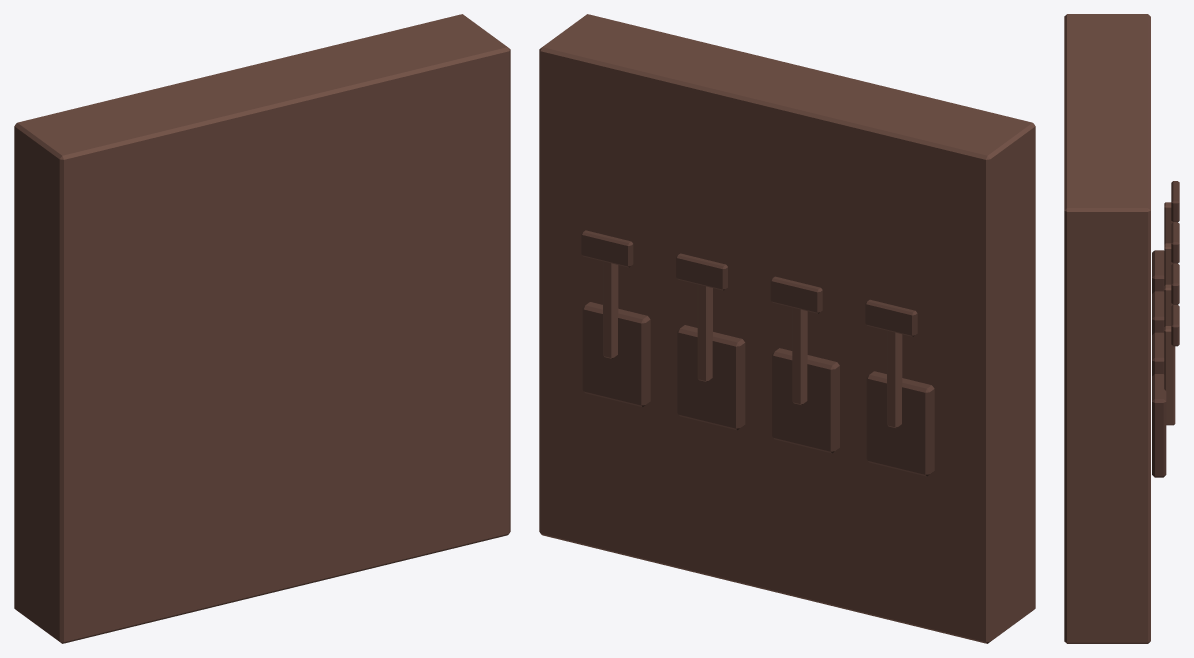
Rendered from leviers_perimetre.glb.
3 renders of one model, left to right at view 1: azimuth 30°, elevation 25°; view 2: azimuth 150°, elevation 25°; view 3: azimuth 270°, elevation 25°, orthographic. The views are drawn at different scales.
Visible parts, largest first — view 1: leviers_perimetre; view 2: leviers_perimetre; view 3: leviers_perimetre.
Part boxes in pixels (x1=…): leviers_perimetre: x1=14, y1=14, x2=510, y2=643; leviers_perimetre: x1=539, y1=14, x2=1035, y2=643; leviers_perimetre: x1=1064, y1=14, x2=1179, y2=643.
Bounding box in the file's own units: 1.45 × 1.5 × 0.36.
1 material, 1 textured.
